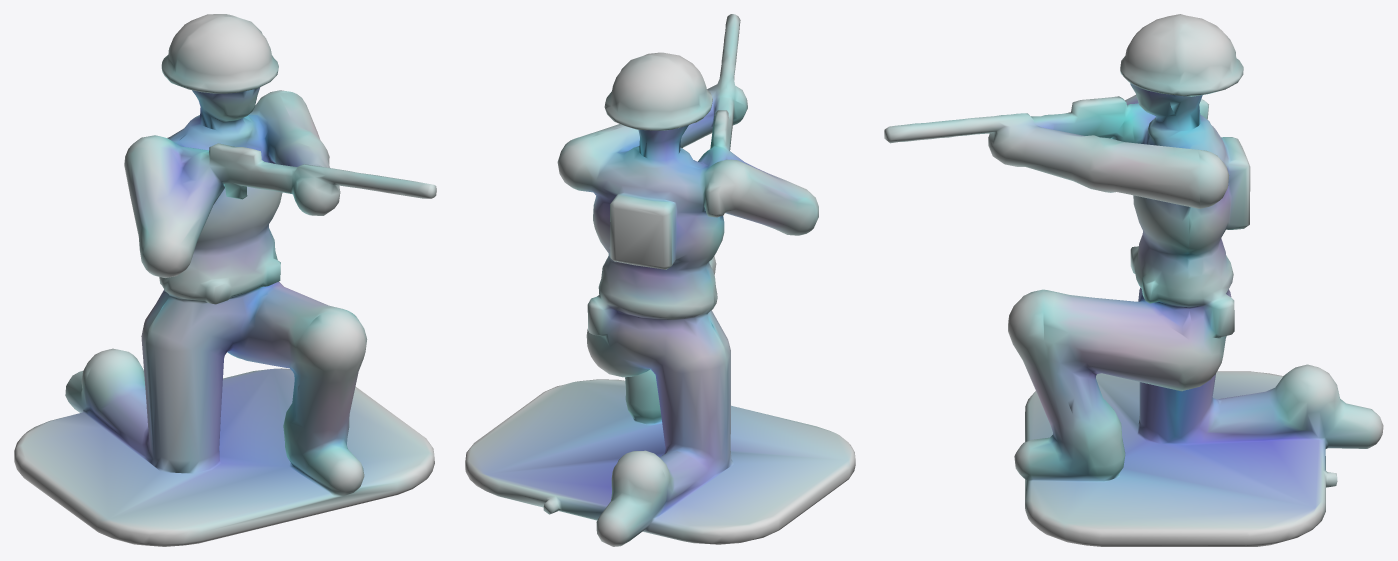
File: sergent-lod1.glb
The picture shows the model from 3 angles, left to right: view 1: azimuth 30°, elevation 25°; view 2: azimuth 150°, elevation 25°; view 3: azimuth 270°, elevation 25°; orthographic projection. The views are drawn at different scales.
Visible parts, largest first — view 1: sergent-lod1; view 2: sergent-lod1; view 3: sergent-lod1.
Part boxes in pixels (x1=…): sergent-lod1: x1=14, y1=14, x2=436, y2=546; sergent-lod1: x1=465, y1=14, x2=855, y2=546; sergent-lod1: x1=884, y1=14, x2=1383, y2=546.
Bounding box in the file's own units: 0.4597 × 0.5912 × 0.597.
